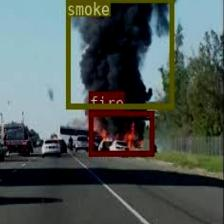fire: (88, 110, 153, 154)
smoke: (65, 0, 173, 107)
